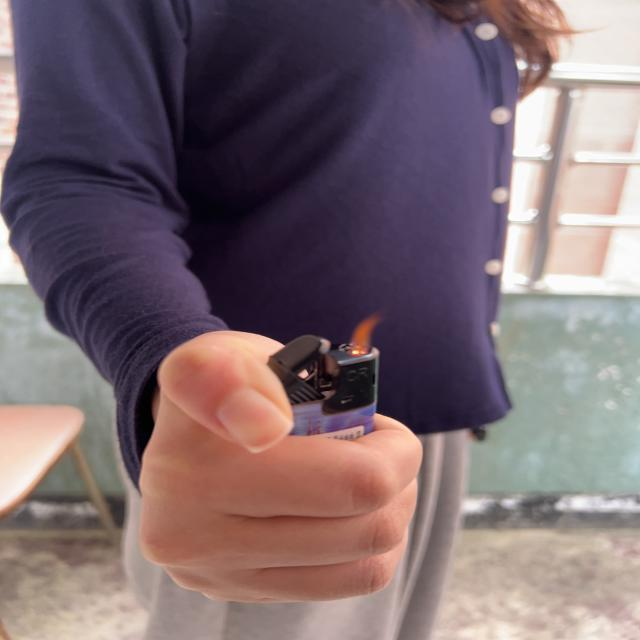fire: (344, 308, 394, 353)
